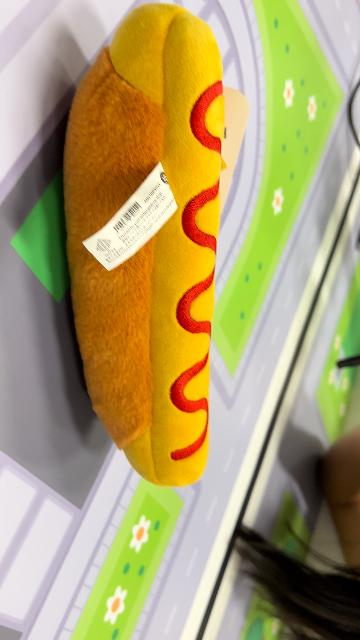hotdog: (62, 3, 228, 489)
